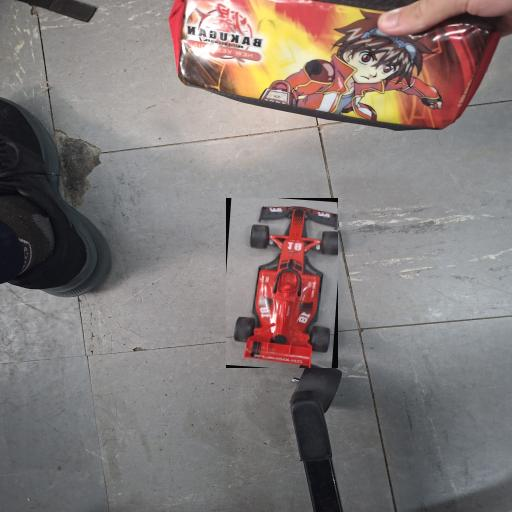carro: (226, 198, 338, 368)
